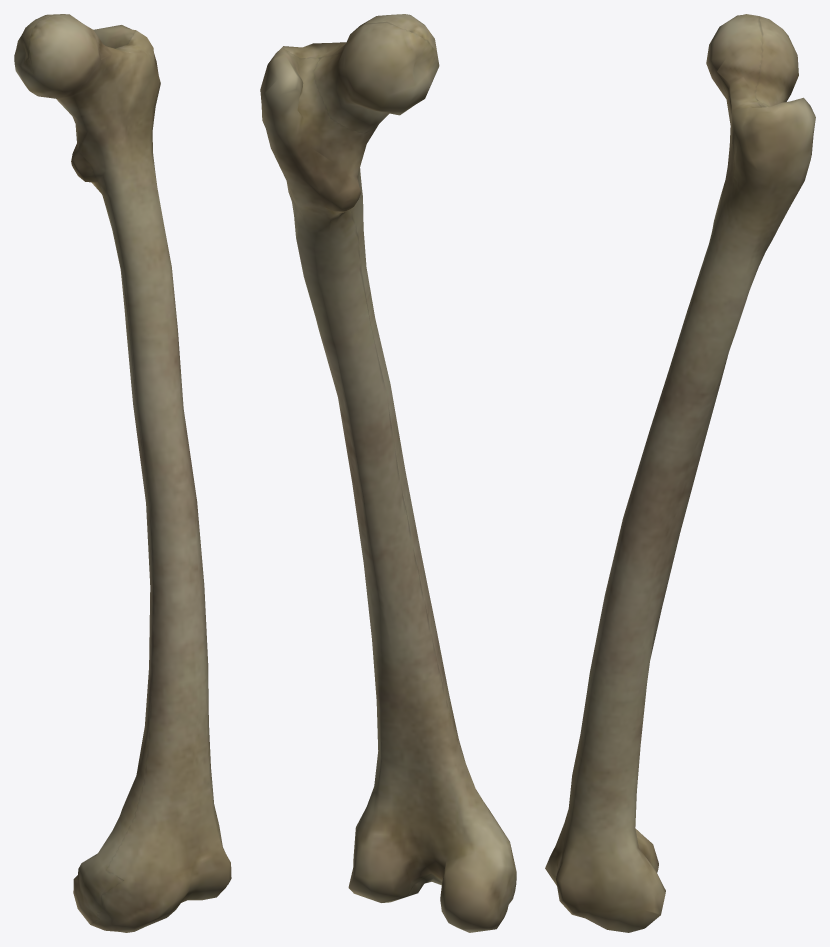
Rendered from Bone.fbx.
3 renders of one model, left to right at view 1: azimuth 30°, elevation 25°; view 2: azimuth 150°, elevation 25°; view 3: azimuth 270°, elevation 25°, orthographic. The views are drawn at different scales.
Visible parts, largest first — view 1: polySurface1; view 2: polySurface1; view 3: polySurface1.
Part boxes in pixels (x1,y1,x2,y2): polySurface1: [14, 14, 231, 932]; polySurface1: [260, 14, 516, 932]; polySurface1: [545, 14, 815, 932].
Bounding box in the file's own units: 8.46 × 47.56 × 13.2.
1 material, 1 textured.
